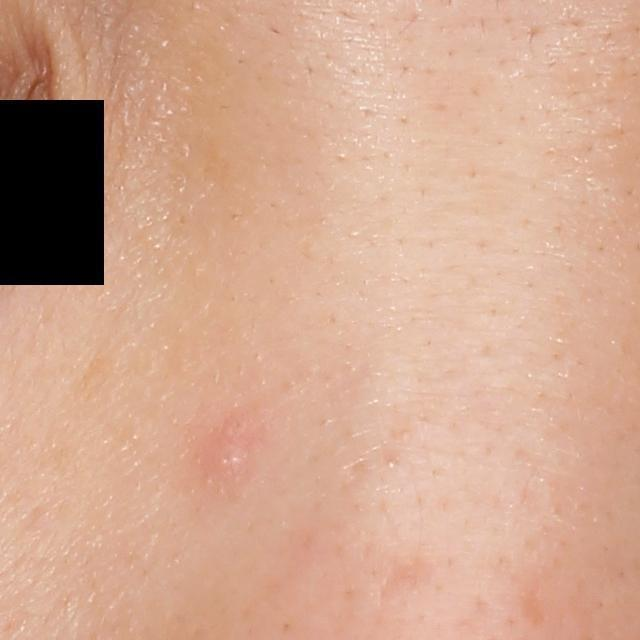atrophic_scar: (376, 560, 428, 606)
papule: (206, 433, 251, 487)
